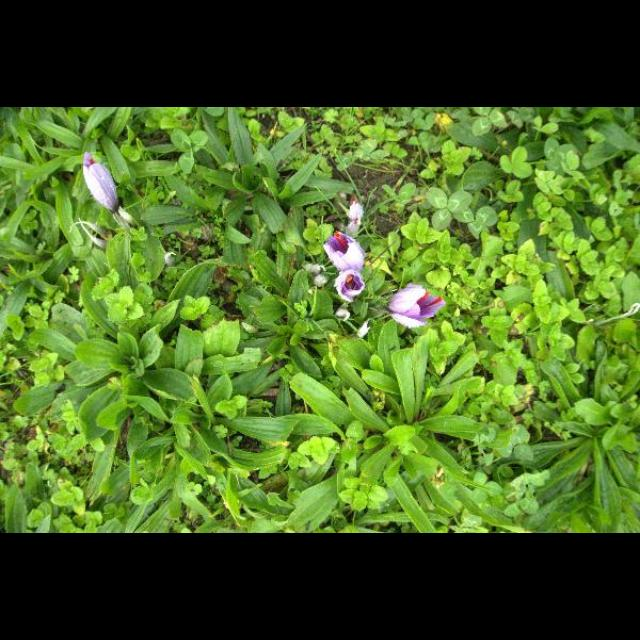flower: (390, 284, 448, 330), (84, 152, 118, 212), (322, 231, 366, 271), (332, 269, 366, 303)
